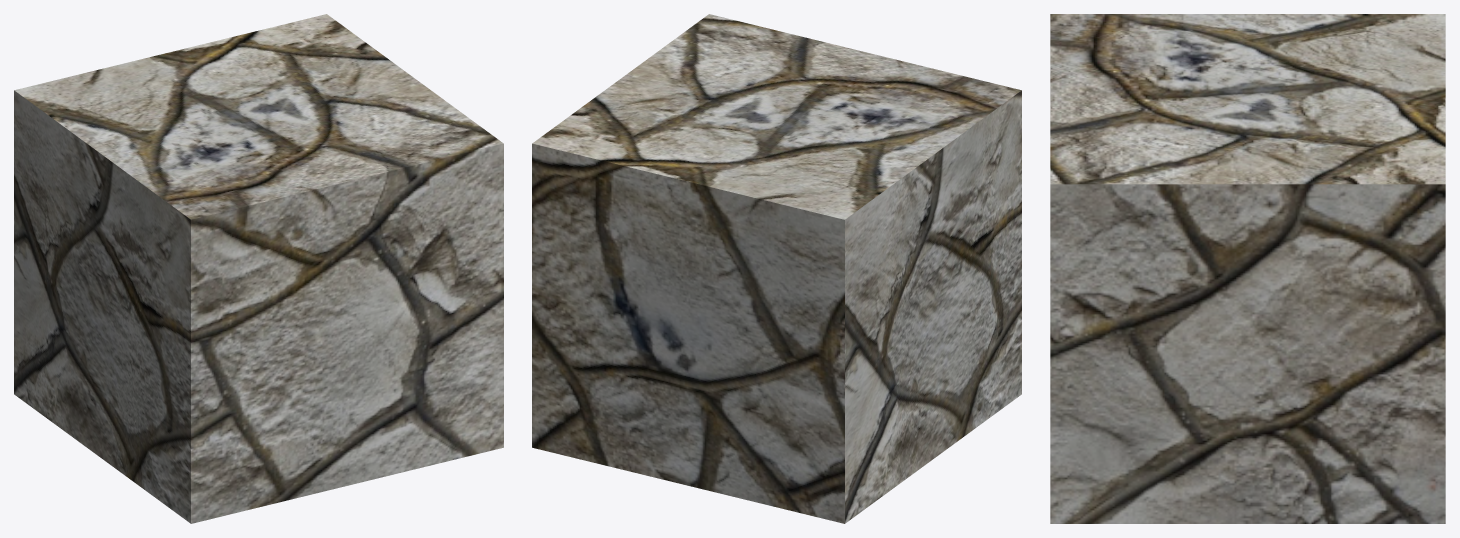
The model's file is stoneCube.fbx.
3 renders of one model, left to right at view 1: azimuth 30°, elevation 25°; view 2: azimuth 150°, elevation 25°; view 3: azimuth 270°, elevation 25°, orthographic. The views are drawn at different scales.
Parts seen in each view (by area): view 1: pCube1021; view 2: pCube1021; view 3: pCube1021.
Part boxes in pixels (<box>): pCube1021: <box>14,14,503,523</box>; pCube1021: <box>532,14,1021,523</box>; pCube1021: <box>1050,14,1445,523</box>.
Size of the model in its own units: 1.81 by 1.68 by 1.77.
1 material, 1 textured.
